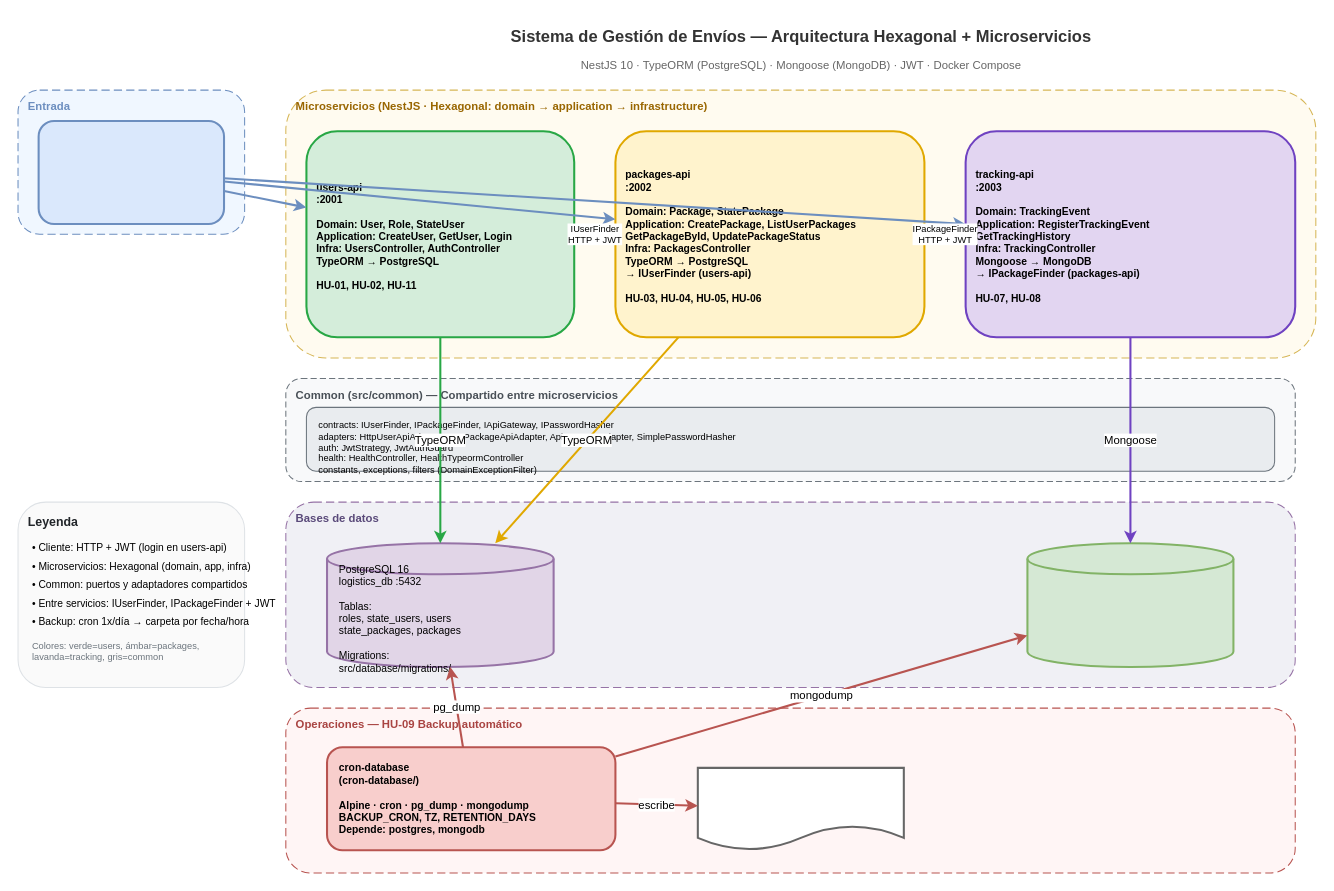
Image size: 1334x891. Some labels were removed from this diagram. Each missing label, with the box of its shape:
Cliente (Postman / App / cURL) HTTP REST Authorization: Bearer JWT: (37, 119, 225, 225)
MongoDB 7 tracking_db :27017 Colección: tracking_events (Mongoose): (1026, 542, 1234, 667)
Volumen / Carpeta cron-database/backup/ YYYY-MM-DD-HHMM/ postgres/ · mongodb/: (696, 766, 904, 851)
